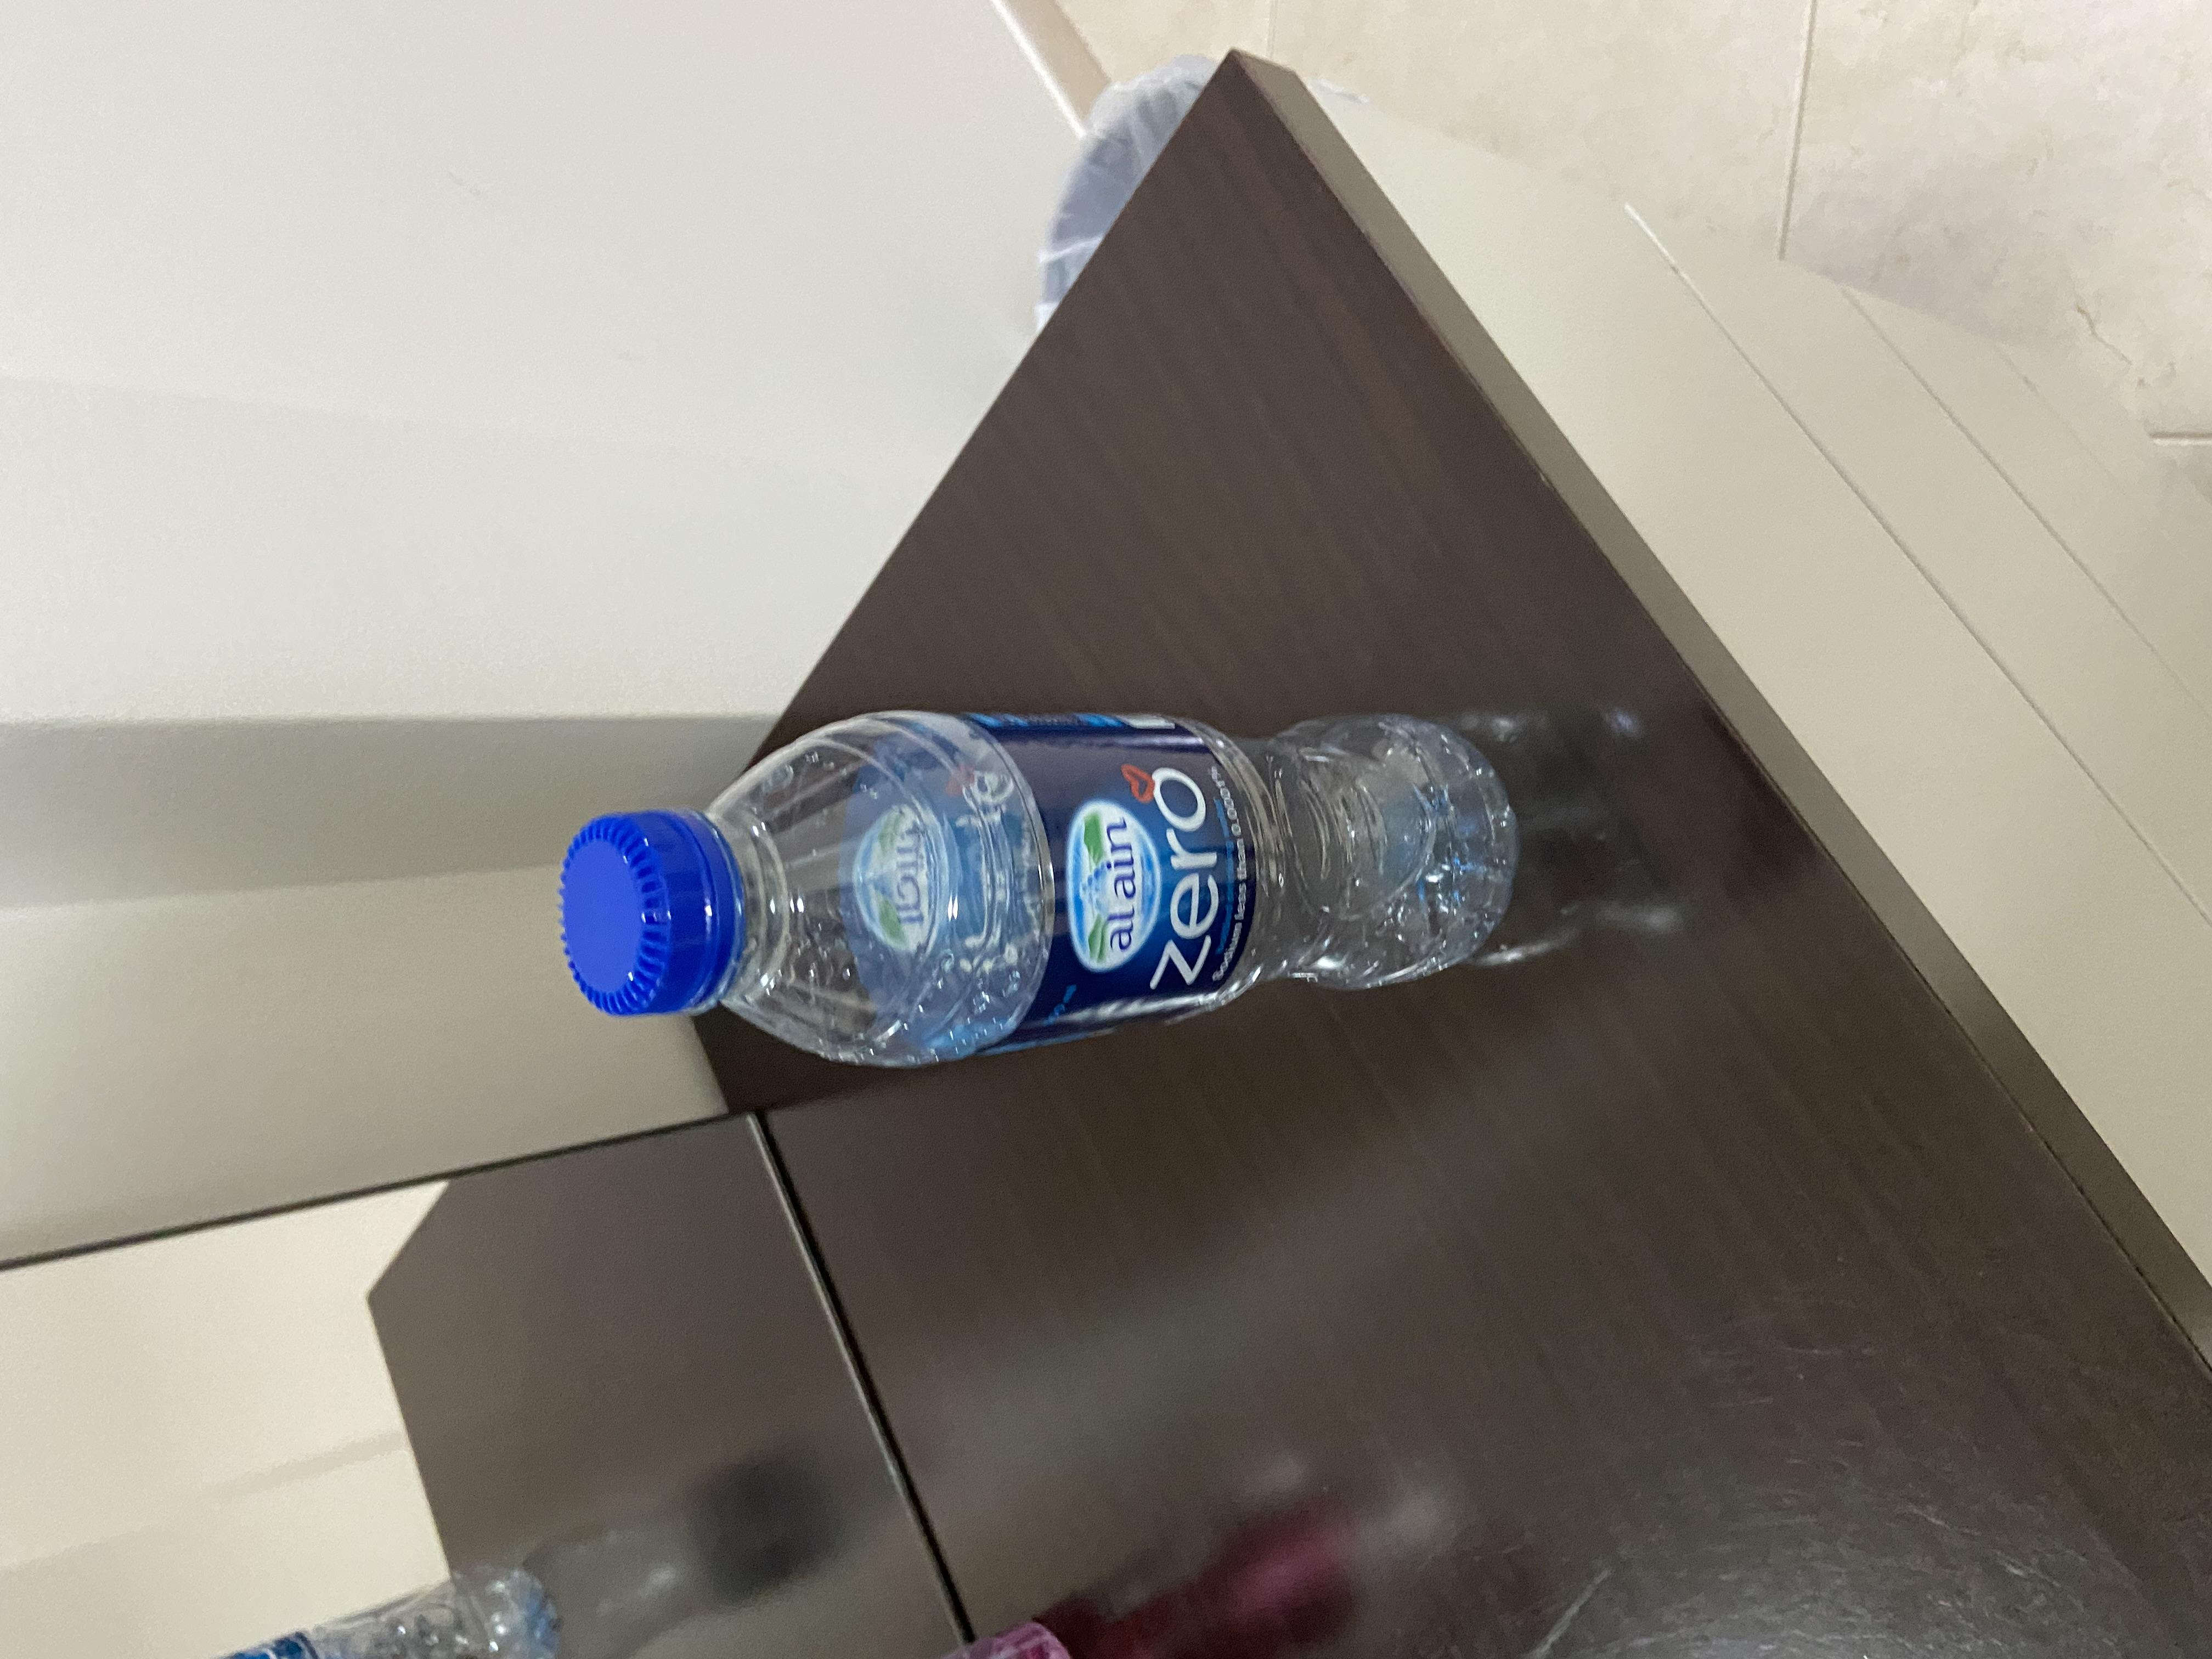bottle: (772, 399, 1303, 1182)
